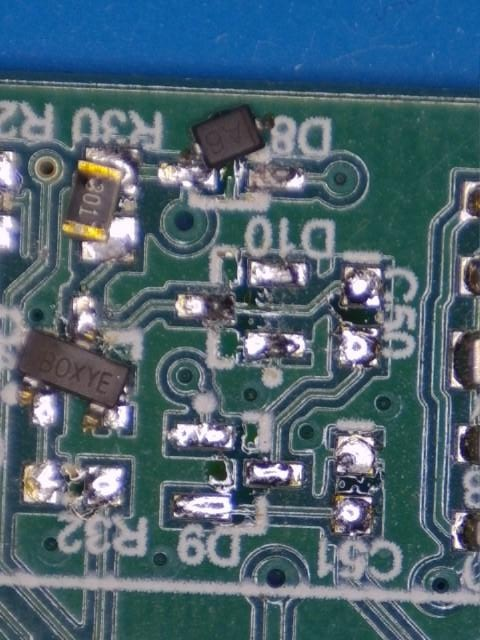pcb_defect: (15, 296, 130, 430), (157, 104, 275, 188), (61, 147, 140, 263)
